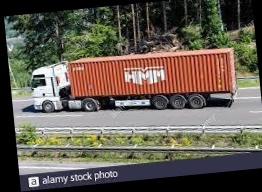truck: (29, 44, 239, 124)
